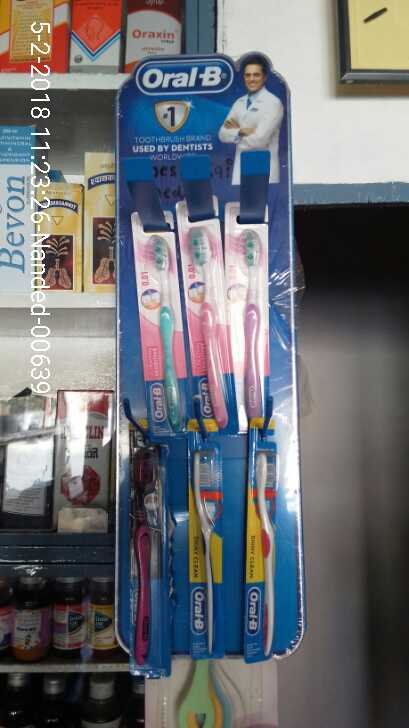oralb: (177, 200, 238, 436), (130, 211, 187, 426), (222, 198, 274, 432), (220, 204, 273, 426), (123, 424, 169, 677), (185, 424, 228, 653), (251, 424, 275, 664)
